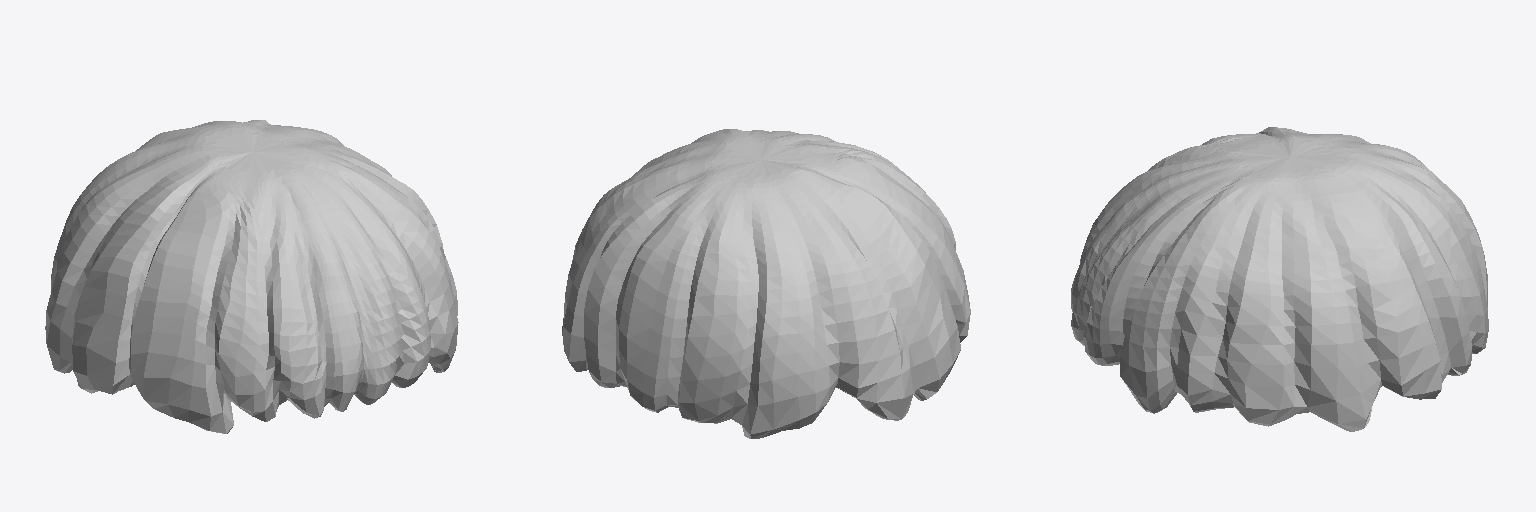
Rendered from HeadHair.obj.
3 renders of one model, left to right at view 1: azimuth 30°, elevation 25°; view 2: azimuth 150°, elevation 25°; view 3: azimuth 270°, elevation 25°, orthographic.
Visible parts, largest first — view 1: Group53081; view 2: Group53081; view 3: Group53081.
Boxes of the visible parts, <box> form: Group53081: <box>45,120,458,433</box>; Group53081: <box>562,129,970,438</box>; Group53081: <box>1071,127,1488,431</box>.
Size of the model in its own units: 0.2383 by 0.1294 by 0.2435.